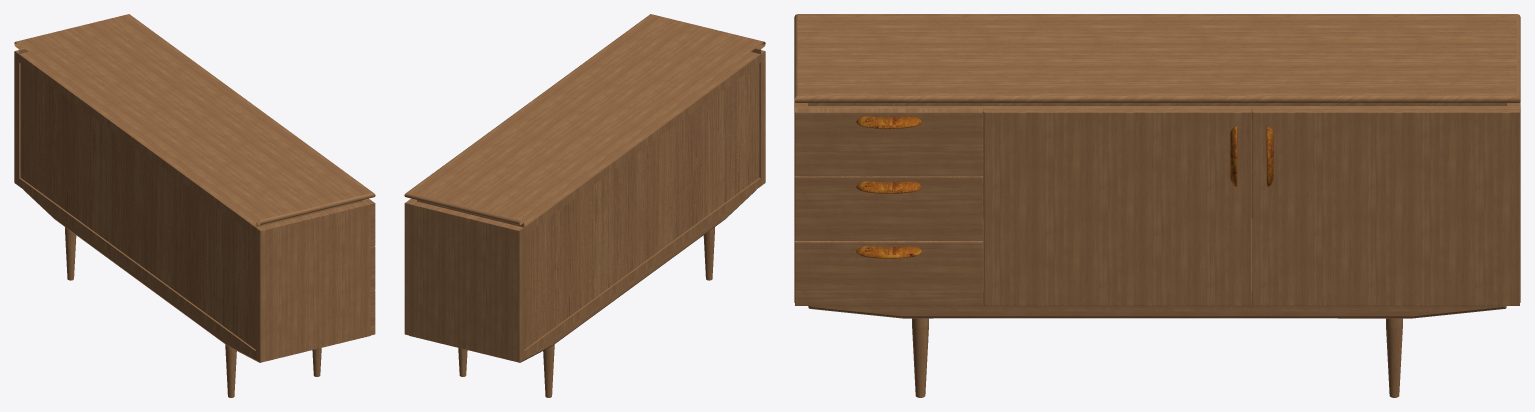
Rendered from sideboard.glb.
3 views of the same model, side by side, from view 1: azimuth 30°, elevation 25°; view 2: azimuth 150°, elevation 25°; view 3: azimuth 270°, elevation 25° (orthographic). The views are drawn at different scales.
Visible parts, largest first — view 1: Object_4; view 2: Object_4; view 3: Object_4, Object_2.
Part boxes in pixels (bbox=[...]): Object_4: bbox=[14, 14, 375, 397]; Object_4: bbox=[404, 14, 765, 397]; Object_4: bbox=[794, 14, 1520, 397]; Object_2: bbox=[856, 116, 1273, 258].
Bounding box in the file's own units: 394 × 637 × 1350.
2 materials, 2 textured.
